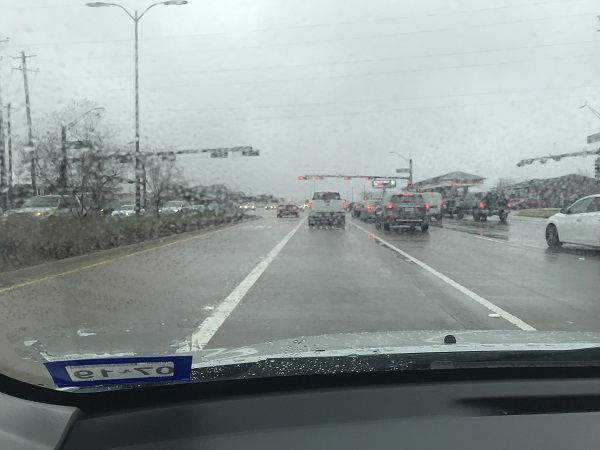car: (545, 192, 600, 253), (377, 195, 429, 230), (275, 200, 300, 216)
truck: (452, 188, 509, 221), (307, 189, 345, 224)
